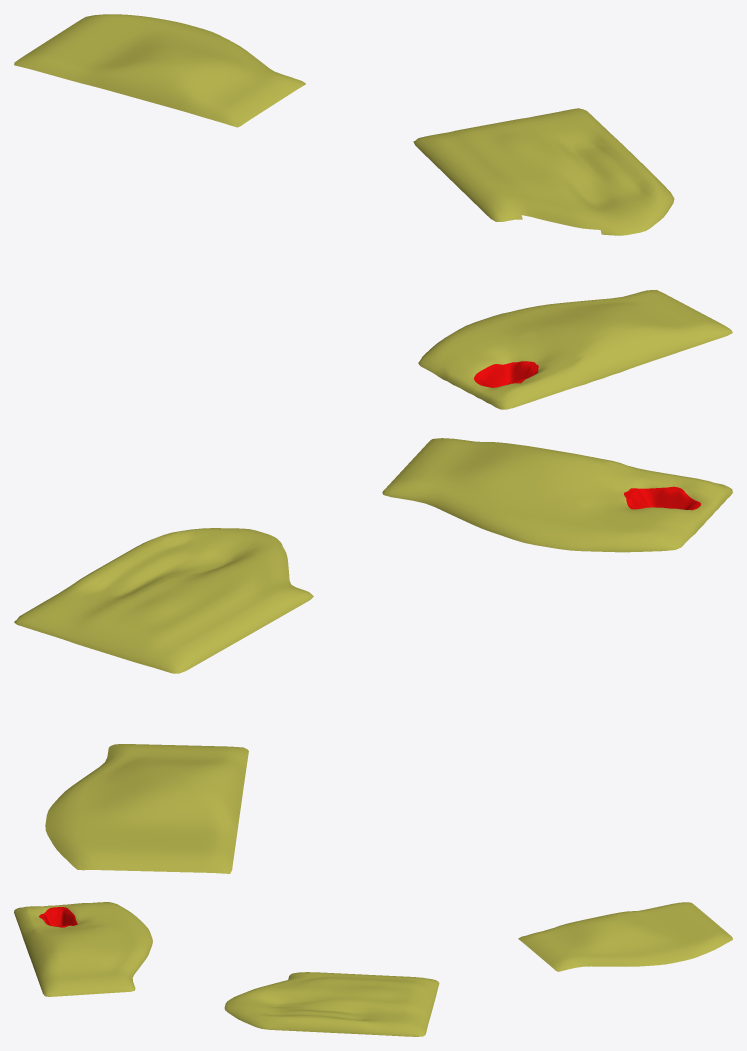
Rendered from physics-hole-test-terrain.fbx.
3 renders of one model, top to bottom at view 1: azimuth 30°, elevation 25°; view 2: azimuth 150°, elevation 25°; view 3: azimuth 270°, elevation 25°, orthographic. The views are drawn at different scales.
Parts seen in each view (by area): view 1: pCube3, pCube5, pCube4; view 2: pCube5, pCube3, pCube4; view 3: pCube3, pCube5, pCube4.
Boxes of the visible parts, box(x1,y1,x2,y2) form: pCube3: box(413, 108, 674, 235); pCube5: box(418, 290, 732, 409); pCube4: box(14, 14, 305, 127); pCube5: box(382, 438, 732, 552); pCube3: box(14, 528, 313, 673); pCube4: box(45, 744, 248, 873); pCube3: box(224, 972, 439, 1036); pCube5: box(14, 902, 152, 996); pCube4: box(518, 902, 732, 971).
Bounding box in the file's own units: 91.59 × 8.99 × 208.
